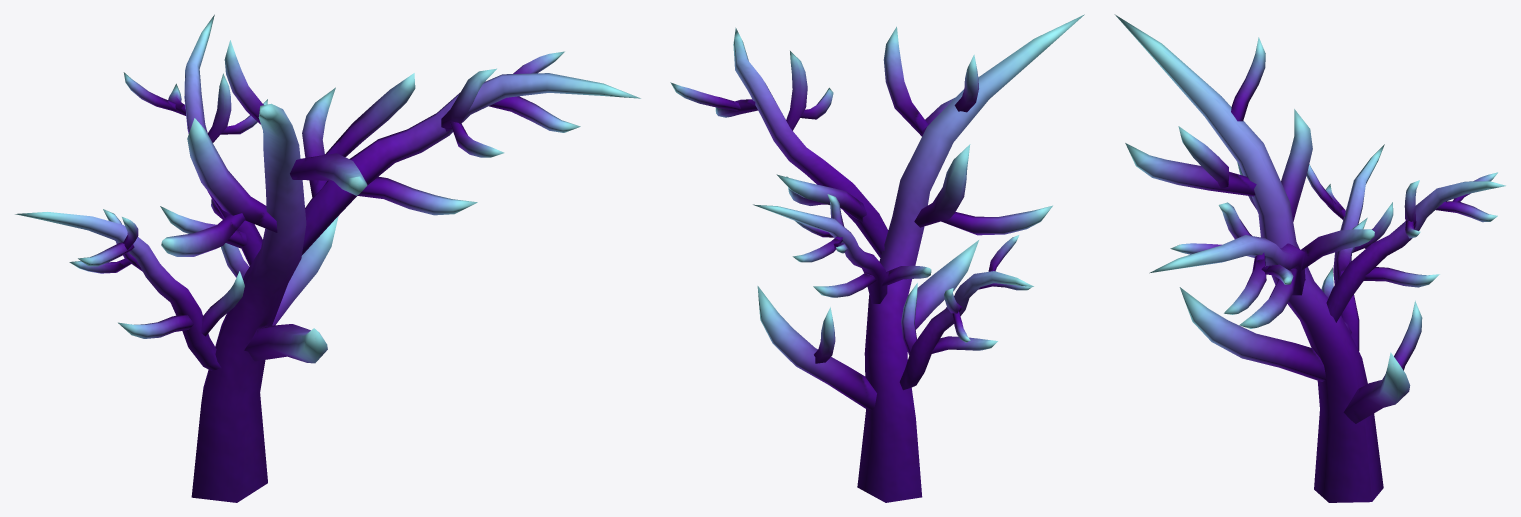
File: Cartoon Seaweed_13-2-10.fbx
3 renders of one model, left to right at view 1: azimuth 30°, elevation 25°; view 2: azimuth 150°, elevation 25°; view 3: azimuth 270°, elevation 25°, orthographic. The views are drawn at different scales.
Visible parts, largest first — view 1: Cartoon Seaweed_13.2.10; view 2: Cartoon Seaweed_13.2.10; view 3: Cartoon Seaweed_13.2.10.
Part boxes in pixels (box(x1,y1,x2,y2)): Cartoon Seaweed_13.2.10: box(15, 14, 640, 502); Cartoon Seaweed_13.2.10: box(670, 14, 1084, 502); Cartoon Seaweed_13.2.10: box(1114, 14, 1505, 502).
Bounding box in the file's own units: 27.91 × 26.91 × 21.81.
Materials: 1 (1 with a texture image).
